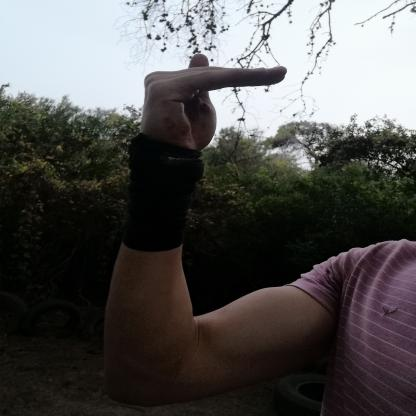KHAA: (126, 43, 297, 167)
